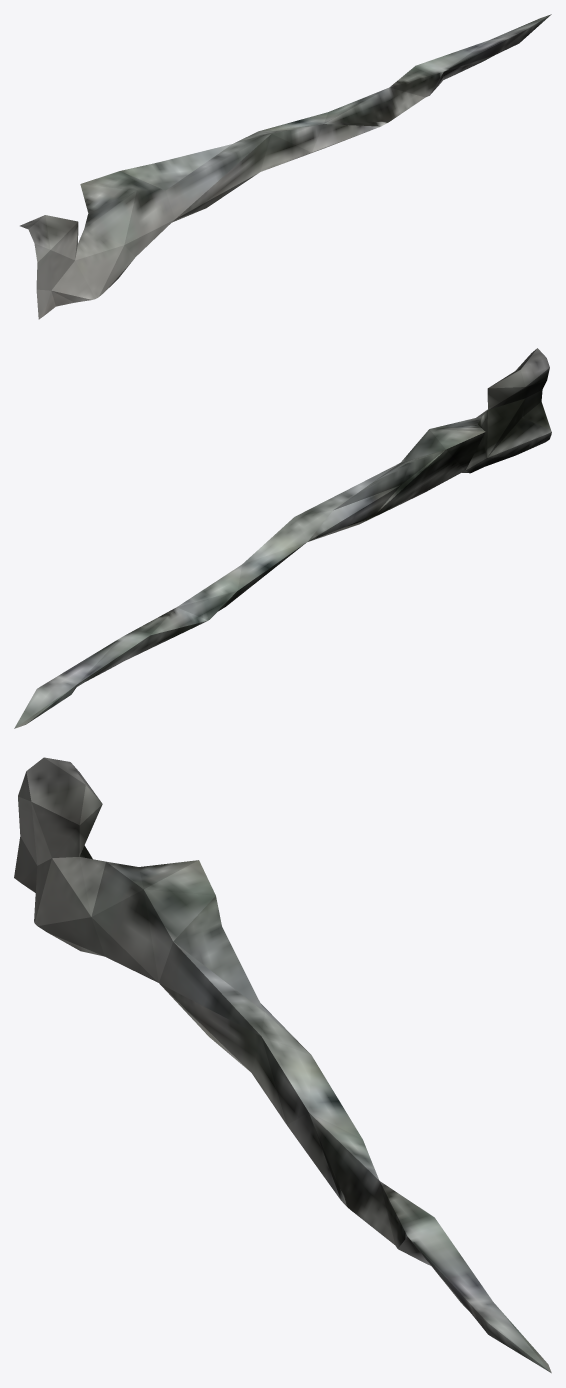
The picture shows the model from 3 angles, top to bottom: view 1: azimuth 30°, elevation 25°; view 2: azimuth 210°, elevation 25°; view 3: azimuth 270°, elevation 25°; orthographic projection. The views are drawn at different scales.
Bounding box in the file's own units: 1.77 × 0.2004 × 0.8112.
1 material, 1 textured.
